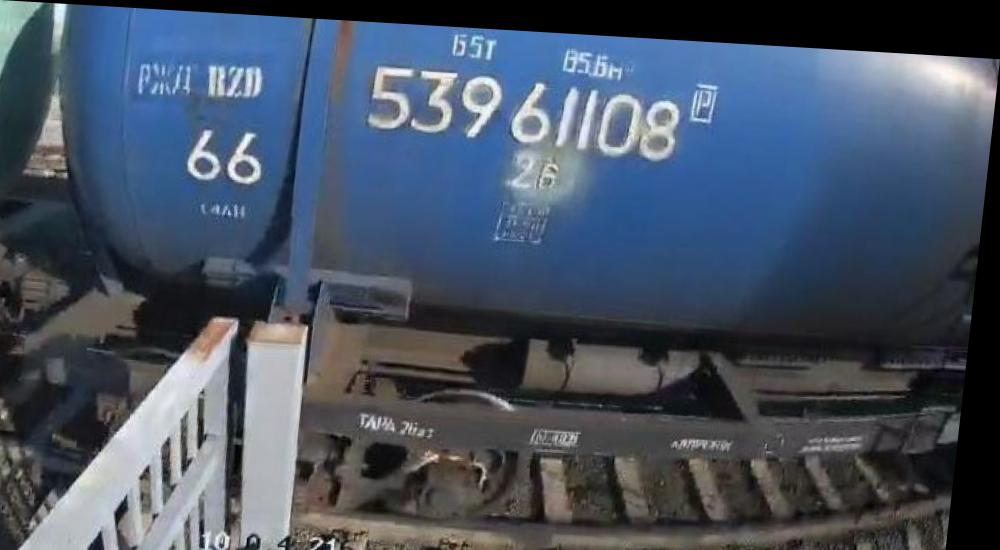Wagon-number: (364, 55, 687, 156)
